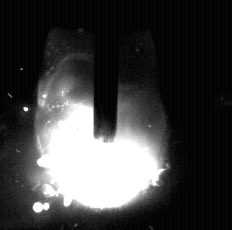arame: (95, 0, 119, 143)
poca: (35, 0, 169, 230)
